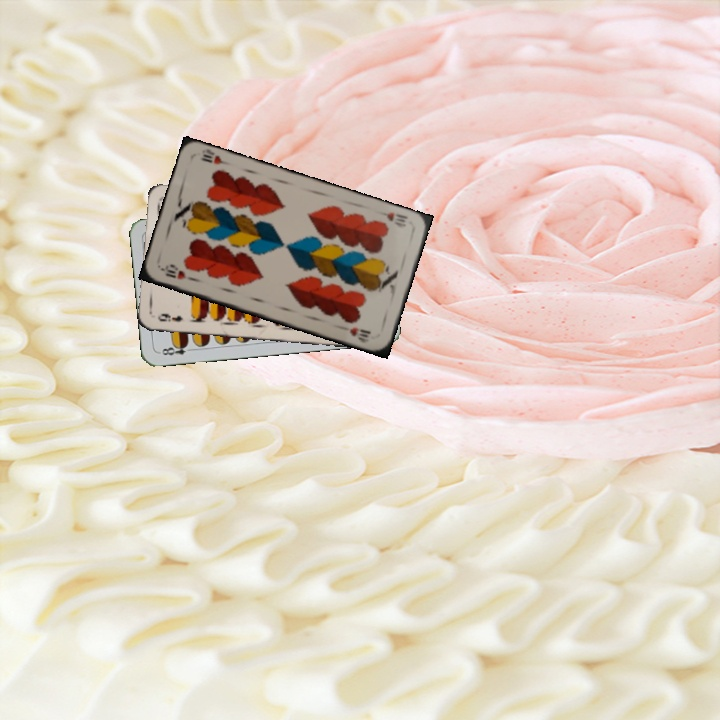E8: (156, 339, 196, 358)
E9: (153, 309, 185, 324)
H10: (157, 261, 197, 284), (374, 207, 410, 230)
